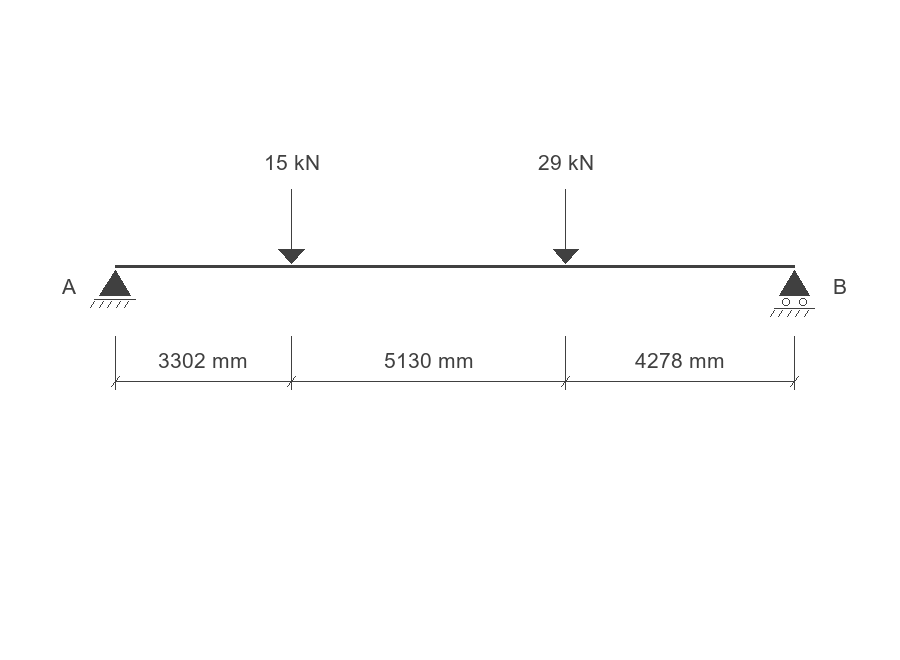pin_support: (90, 270, 136, 308)
point_load: (278, 189, 305, 264), (553, 189, 579, 264)
roller_support: (770, 270, 815, 317)
